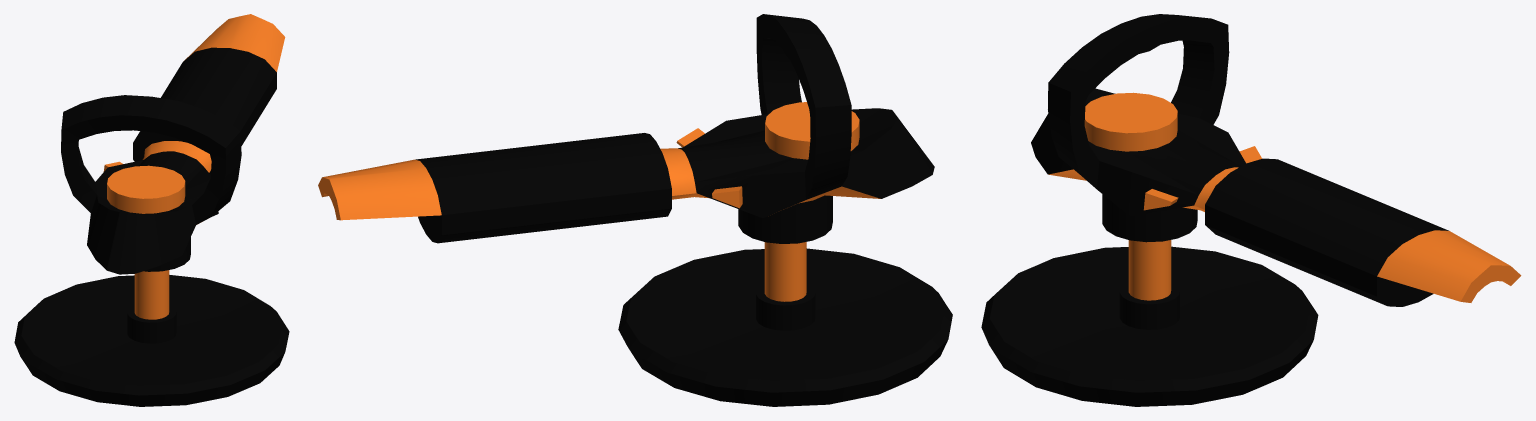
Rendered from TuruncuMakine.fbx.
The picture shows the model from 3 angles, left to right: view 1: azimuth 30°, elevation 25°; view 2: azimuth 150°, elevation 25°; view 3: azimuth 270°, elevation 25°; orthographic projection. The views are drawn at different scales.
Visible parts, largest first — view 1: TuruncuMakine; view 2: TuruncuMakine; view 3: TuruncuMakine.
Part boxes in pixels (x1,y1,x2,y2): TuruncuMakine: [14, 14, 289, 406]; TuruncuMakine: [318, 14, 952, 406]; TuruncuMakine: [981, 14, 1521, 406].
Bounding box in the file's own units: 0.5206 × 0.3334 × 0.5245.
